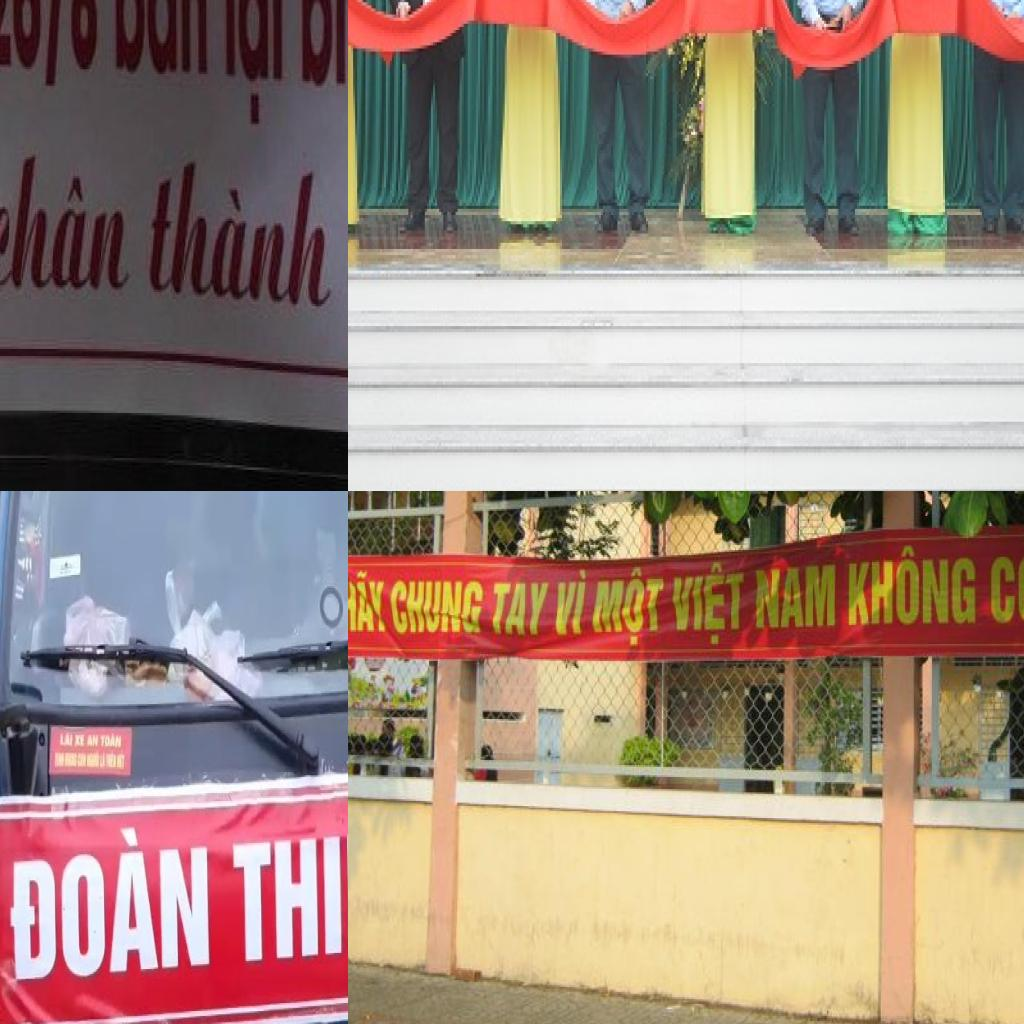text: (11, 820, 211, 982), (145, 157, 342, 311), (232, 804, 348, 989), (0, 154, 142, 292), (845, 538, 979, 634), (0, 0, 101, 95), (219, 0, 284, 126), (111, 0, 212, 81), (670, 558, 744, 650), (592, 566, 670, 652), (753, 562, 837, 630), (388, 578, 485, 636), (298, 0, 348, 95), (488, 577, 553, 639), (988, 533, 1024, 625), (553, 565, 589, 639), (348, 567, 386, 633), (100, 732, 122, 750), (60, 730, 73, 748), (106, 751, 117, 769), (117, 750, 126, 770), (74, 735, 86, 748), (87, 735, 99, 748), (100, 751, 106, 770)
